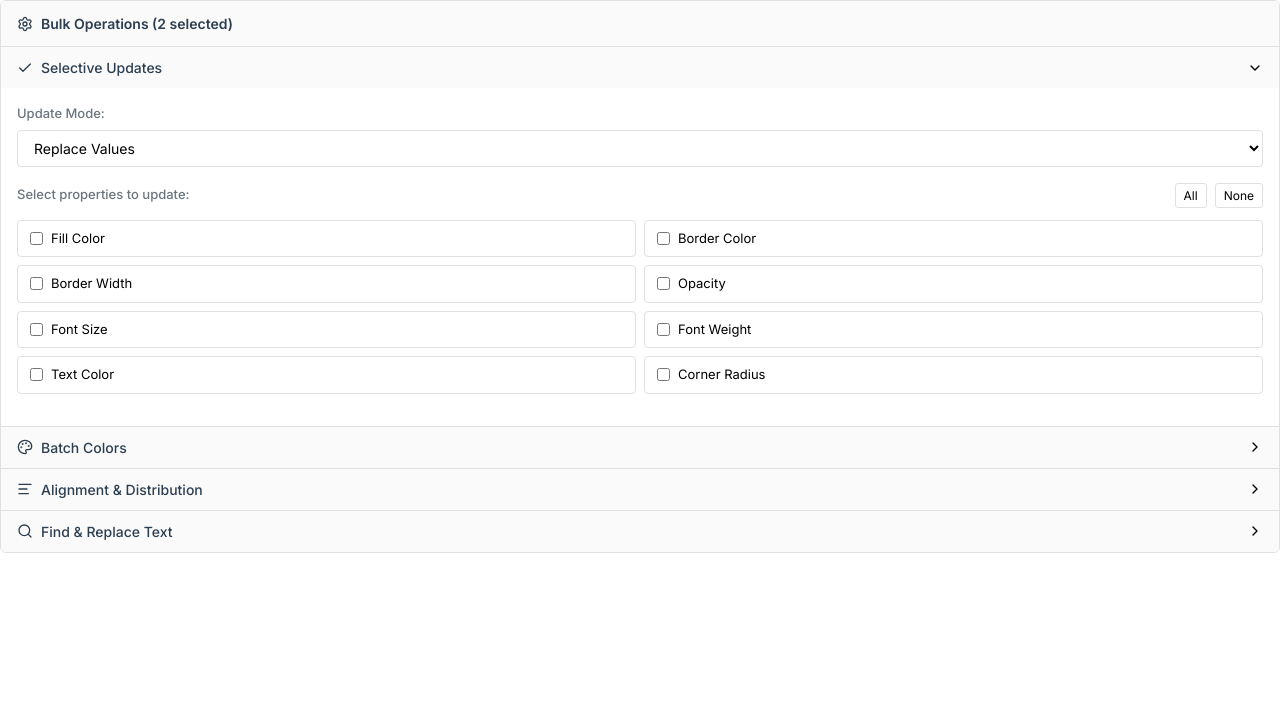
BulkStyleControls › Find and Replace › should show find and replace for text elements
Click the button "Find & Replace Text".
click(107, 531)  # box [1, 510, 1279, 552]
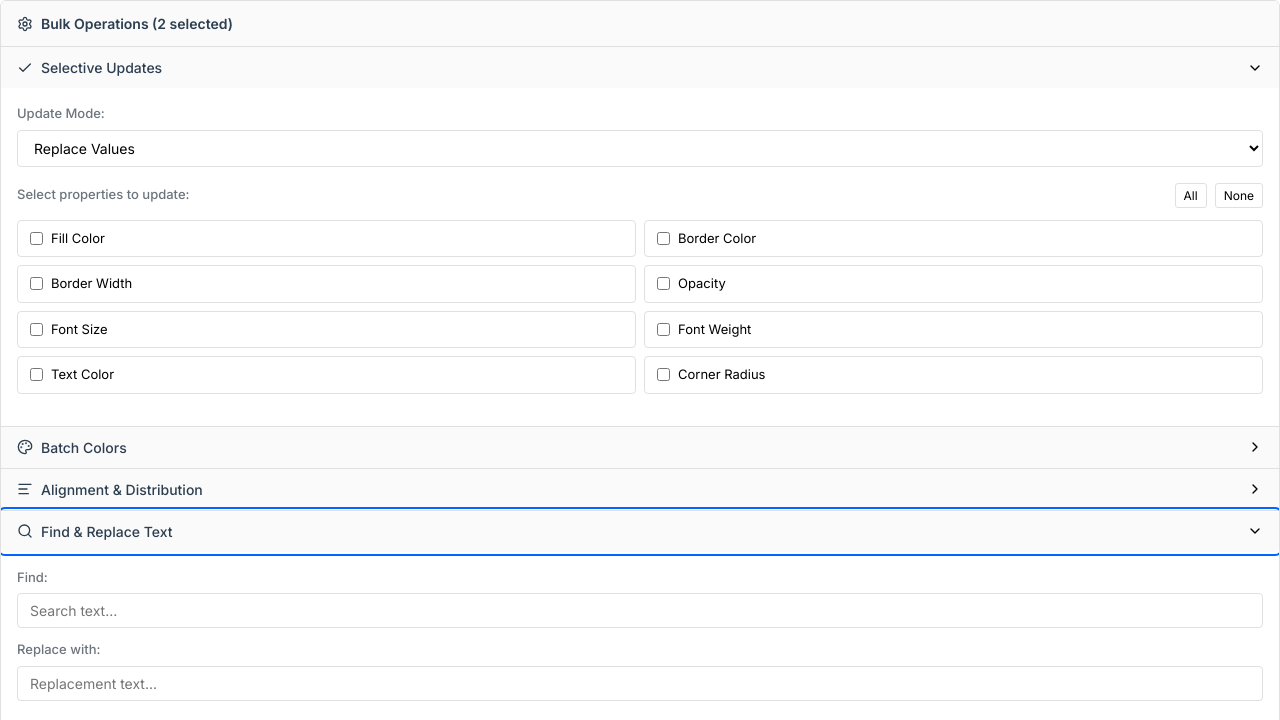
Now the field with placeholder "Search text..." is shown, box [17, 593, 1263, 628]
Now the field with placeholder "Replacement text..." is shown, box [17, 666, 1263, 700]
